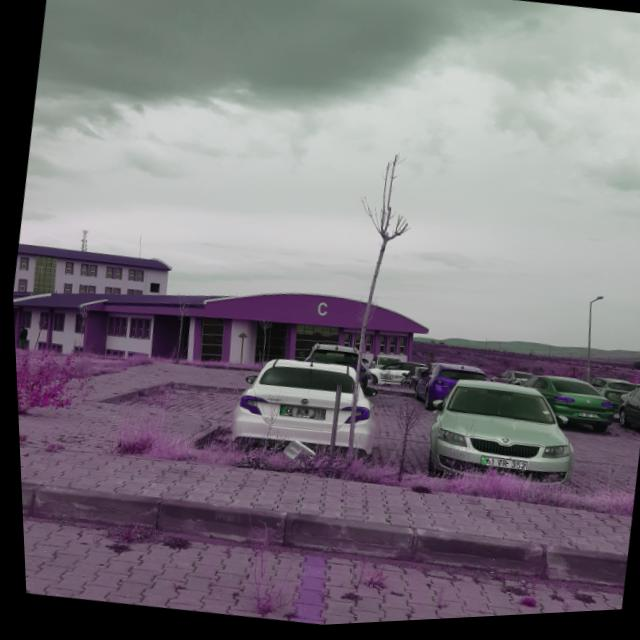license_plate: (476, 458, 525, 477), (275, 405, 323, 423)
